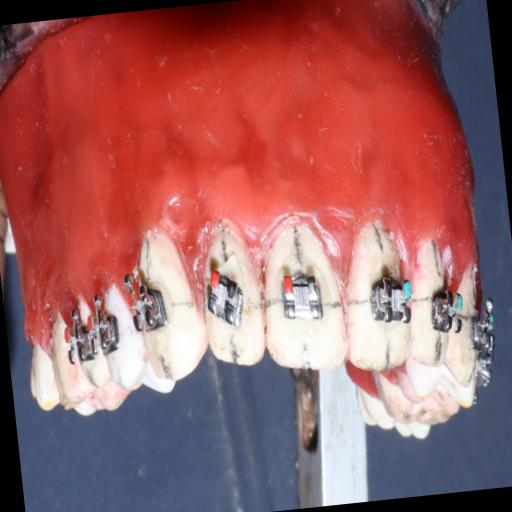incorrect_brace: (195, 222, 270, 370), (274, 262, 325, 324), (204, 266, 246, 333)
